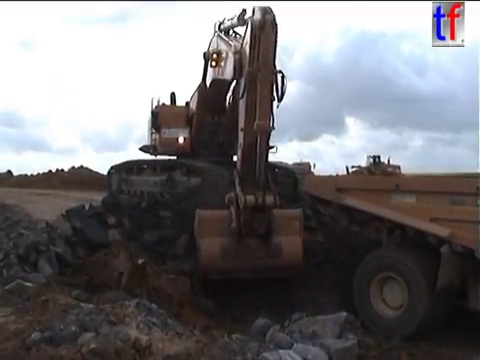excavator: (103, 3, 315, 279)
truck: (300, 171, 480, 345)
wheel loader: (329, 152, 404, 187)
